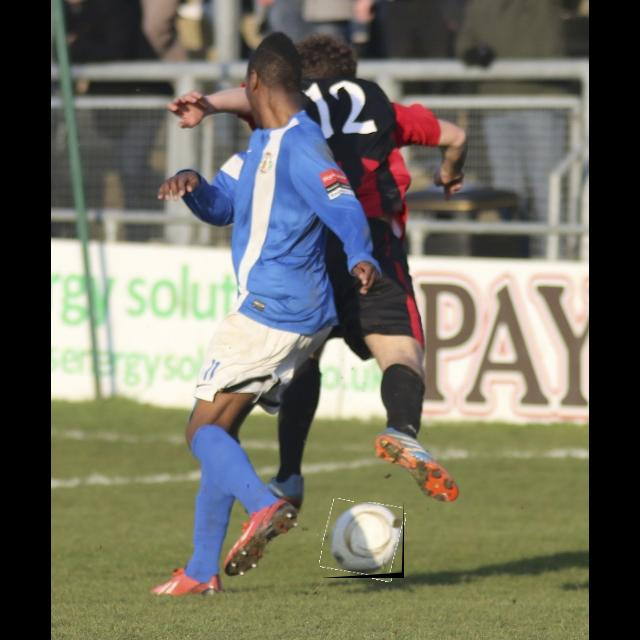Football: (322, 502, 404, 578)
